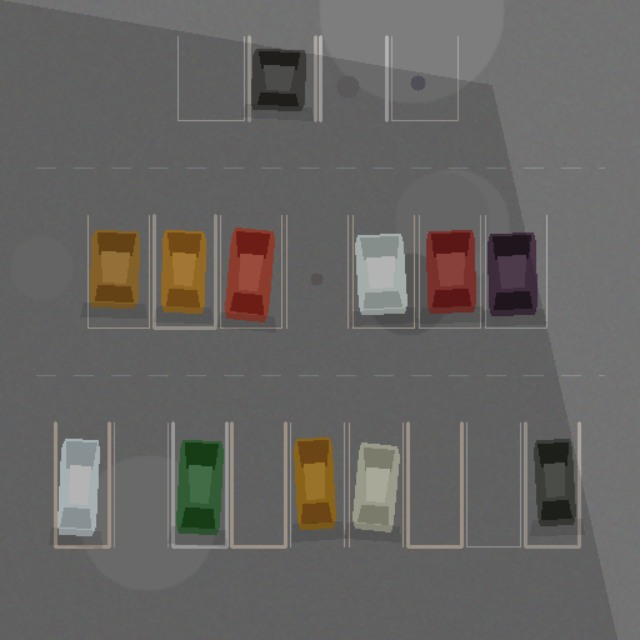space-empty: (286, 215, 347, 327), (114, 423, 168, 546), (231, 423, 285, 546), (466, 423, 520, 546), (408, 423, 461, 546), (391, 36, 458, 120), (178, 36, 244, 120), (320, 36, 386, 120)
space-occupied: (87, 215, 149, 327), (154, 215, 215, 327), (220, 215, 281, 327), (353, 215, 414, 327), (419, 215, 480, 327), (485, 215, 546, 327), (55, 423, 109, 546), (172, 423, 226, 546), (290, 423, 344, 546), (525, 423, 579, 546), (349, 423, 402, 546), (249, 36, 315, 120)
